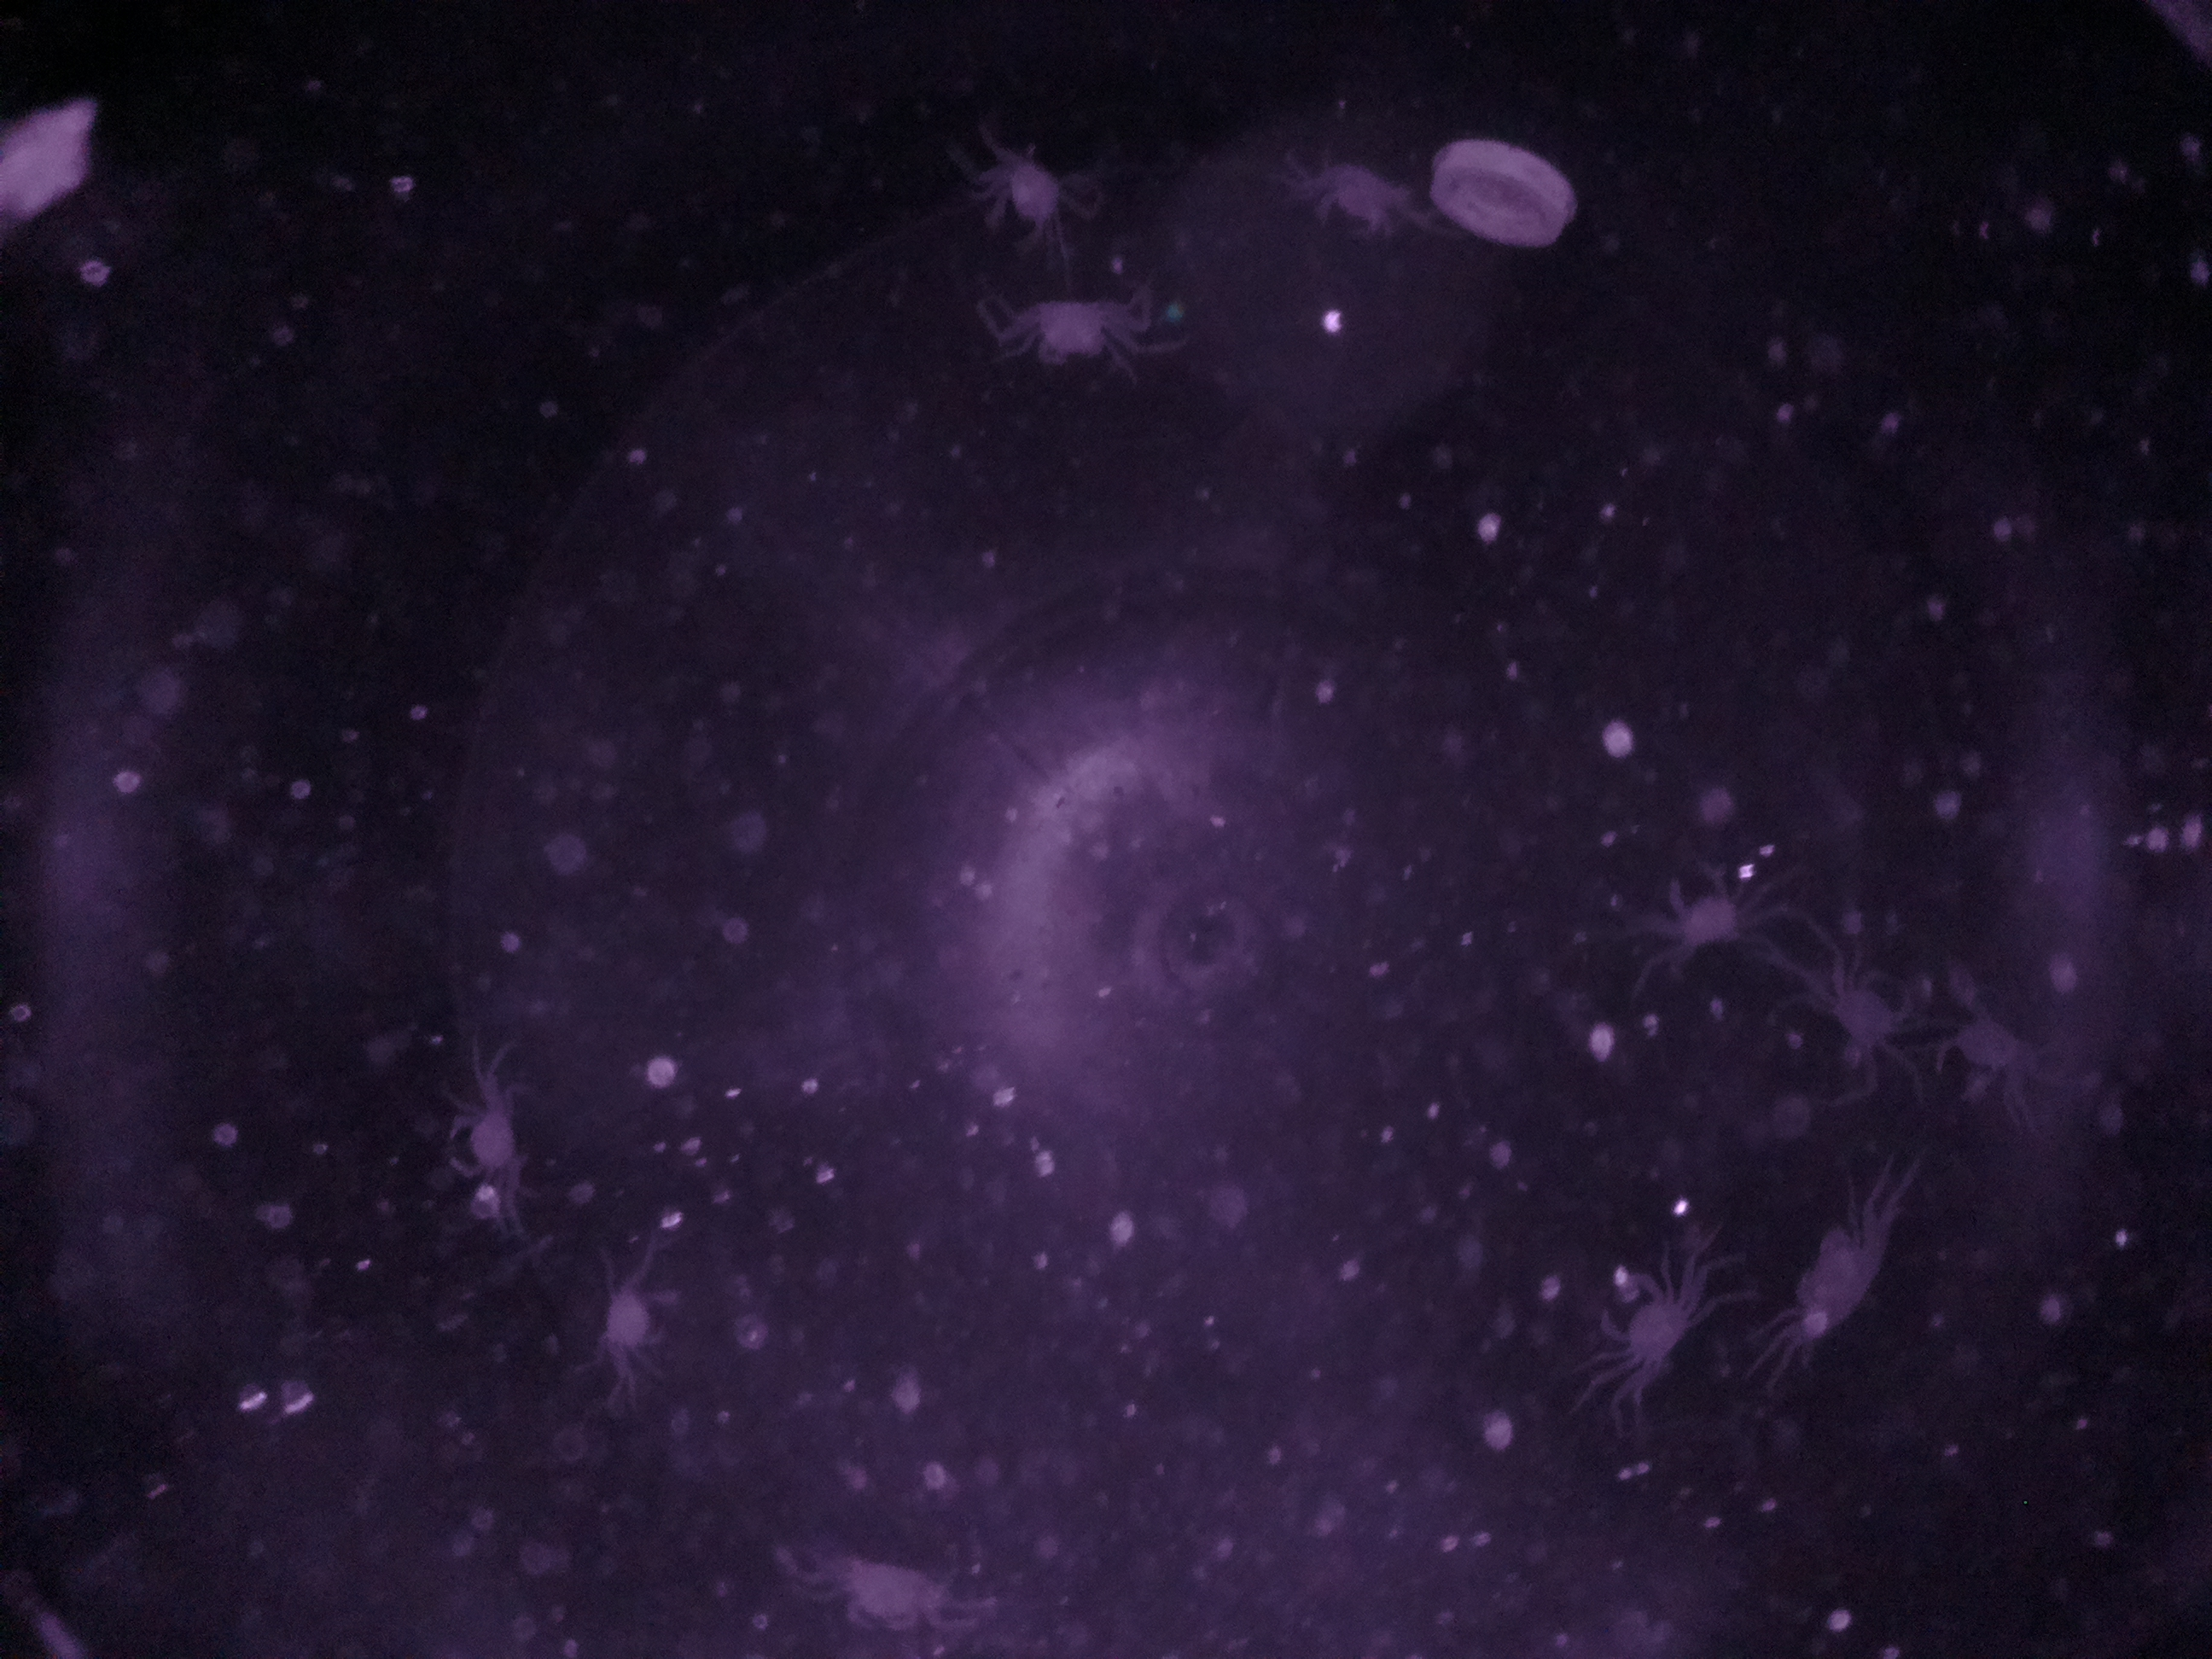Crab: (1587, 1255, 1717, 1387), (808, 1537, 961, 1642), (963, 136, 1089, 261), (1280, 152, 1420, 256), (1639, 847, 1752, 971), (1012, 275, 1132, 387), (428, 1098, 538, 1195), (590, 1267, 693, 1366)
